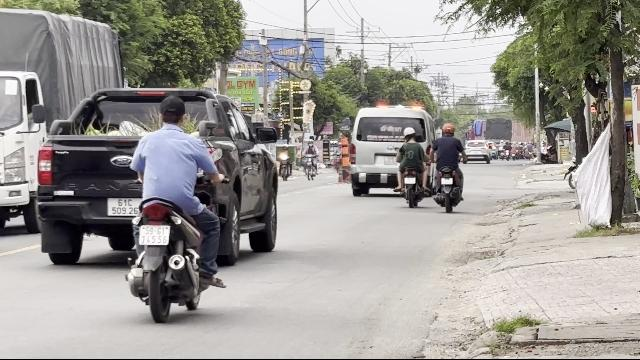licenseplate: (139, 226, 169, 246)
motorcyclist: (121, 95, 225, 320)
nohelmet: (156, 95, 186, 127)
